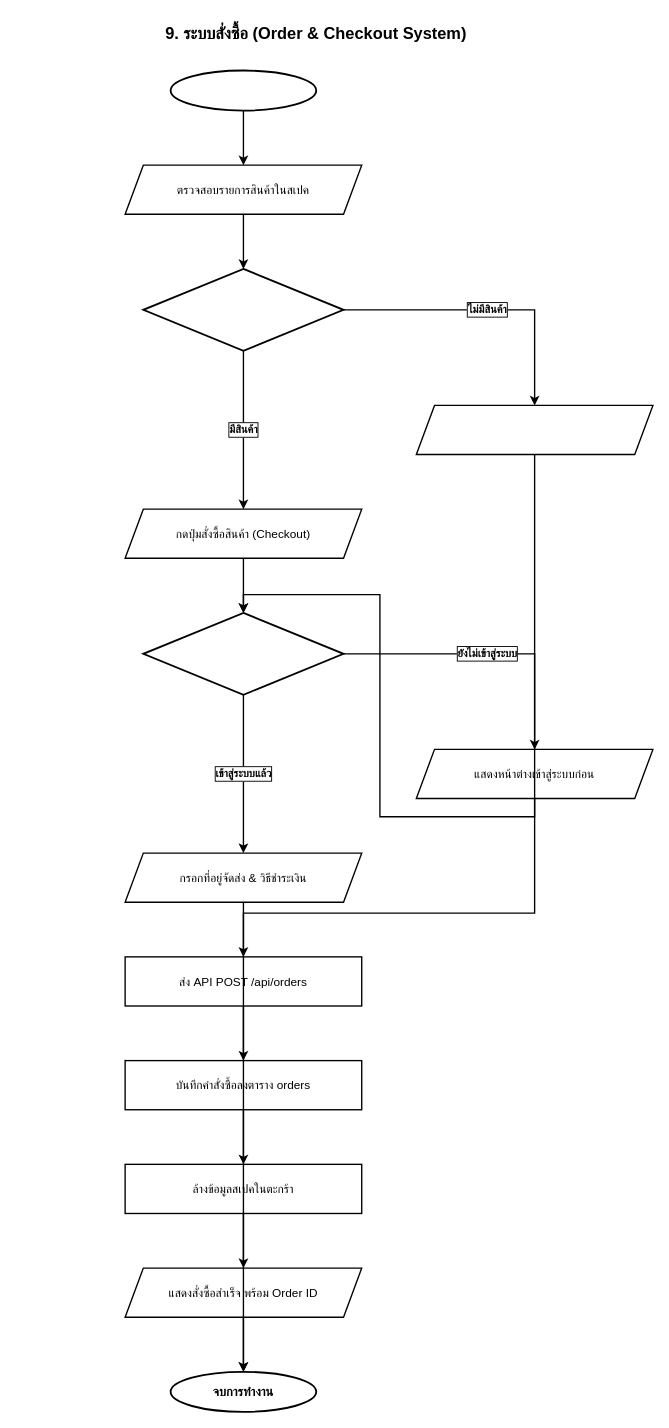
Some shapes in this 669 by 1428 pixel diagram are drawn without their labels. The shapes that lost their labels are listed below. From the top down, each one's centre as x and y in pixels, then its label:
At pixel 243 90: "เริ่มต้น".
At pixel 243 309: "มีรายการสินค้าหรือไม่?".
At pixel 534 429: "แสดงเตือน: โปรดเลือกสินค้าก่อน".
At pixel 243 653: "เข้าสู่ระบบ (Login) หรือยัง?".
